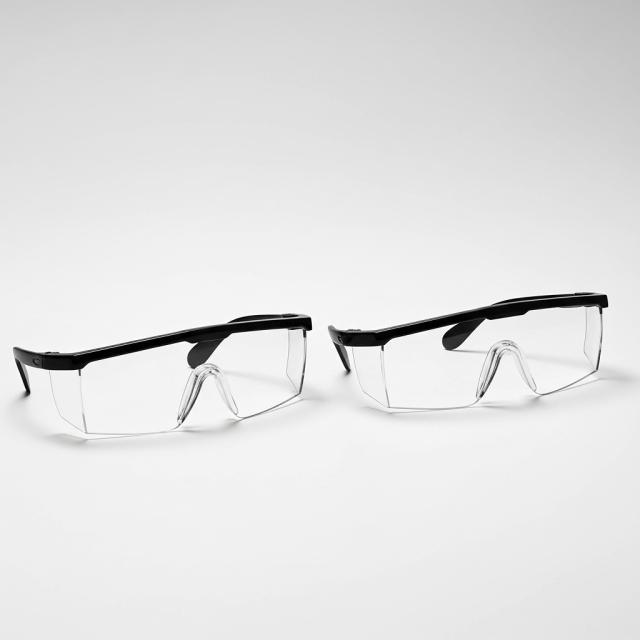oculos-epi: (13, 314, 311, 436), (329, 292, 608, 411)
